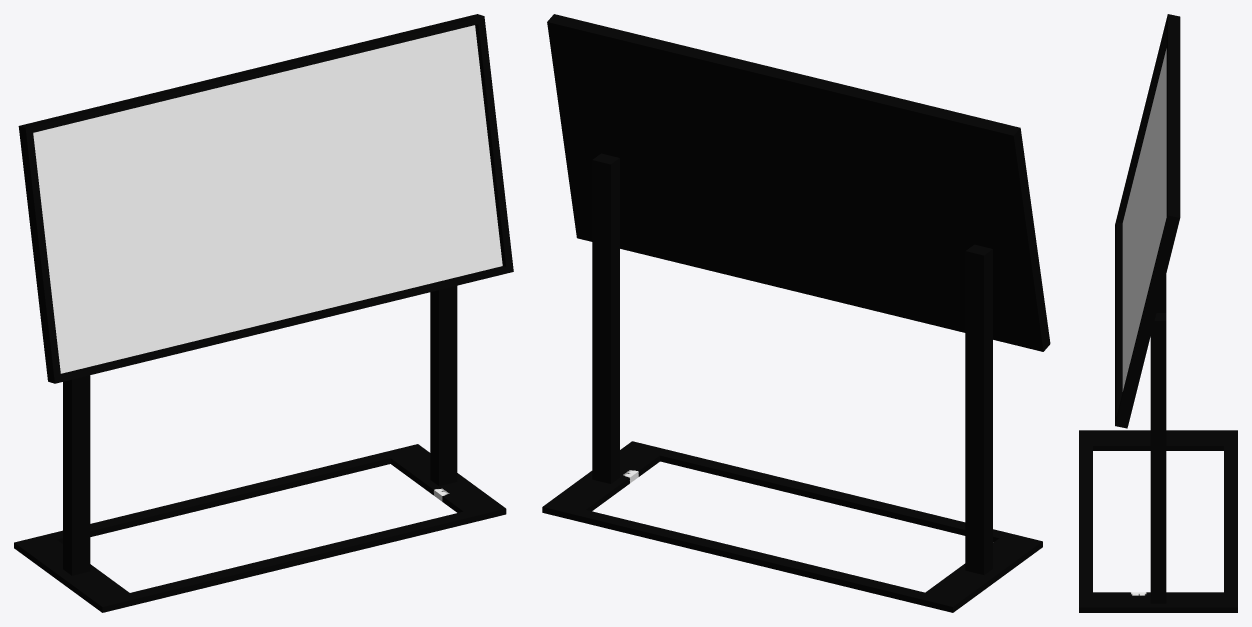
File: sign_wide.obj
3 views of the same model, side by side, from view 1: azimuth 30°, elevation 25°; view 2: azimuth 150°, elevation 25°; view 3: azimuth 270°, elevation 25° (orthographic). The views are drawn at different scales.
Visible parts, largest first — view 1: Cube.001, Plane; view 2: Cube.001, Plane; view 3: Cube.001, Plane.
Boxes of the visible parts, <box> form: Cube.001: <box>18,14,513,383</box>; Plane: <box>14,286,506,612</box>; Cube.001: <box>547,14,1050,351</box>; Plane: <box>542,153,1042,612</box>; Cube.001: <box>1115,14,1180,428</box>; Plane: <box>1079,274,1237,612</box>.
Size of the model in its own units: 1.5 by 1.42 by 0.5.
